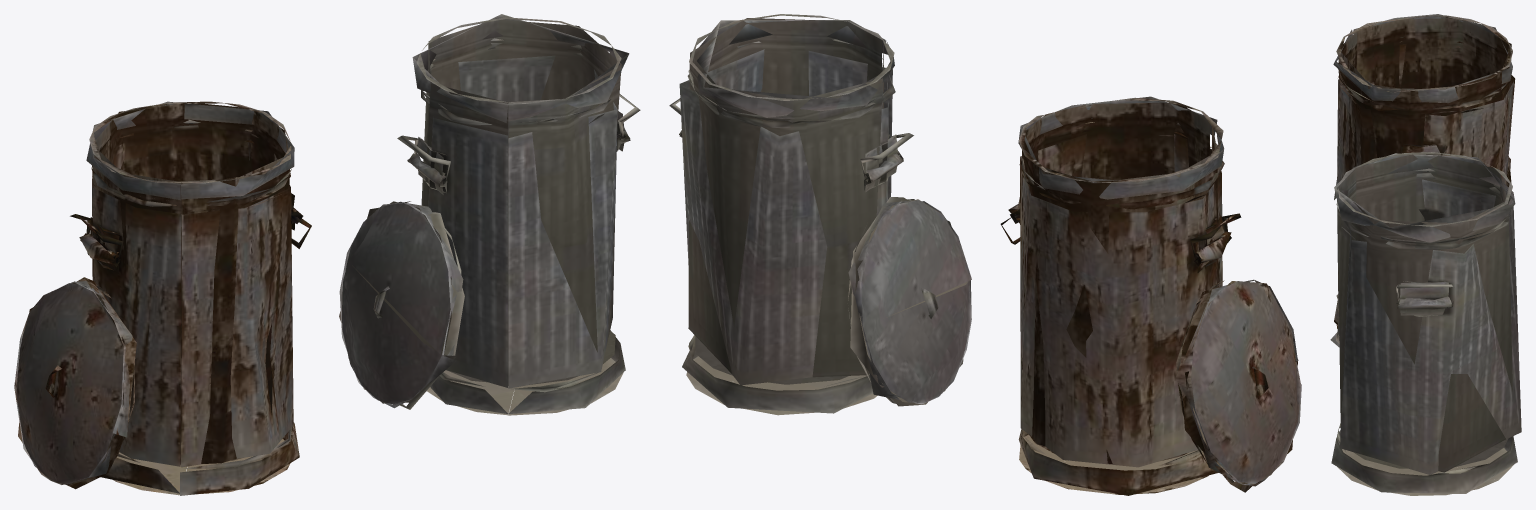
The model's file is metal_trash_can.glb.
3 views of the same model, side by side, from view 1: azimuth 30°, elevation 25°; view 2: azimuth 150°, elevation 25°; view 3: azimuth 270°, elevation 25° (orthographic). The views are drawn at different scales.
Visible parts, largest first — view 1: metal_trash_can_rust, metal_trash_can, metal_trash_can_lid, metal_trash_can_rust_lid; view 2: metal_trash_can, metal_trash_can_rust, metal_trash_can_lid, metal_trash_can_rust_lid; view 3: metal_trash_can, metal_trash_can_rust, metal_trash_can_handle_right.
Boxes of the visible parts, left/top/right/bottom form: metal_trash_can_rust: left=79, top=101, right=303, bottom=495; metal_trash_can: left=407, top=14, right=630, bottom=415; metal_trash_can_lid: left=339, top=201, right=464, bottom=409; metal_trash_can_rust_lid: left=14, top=277, right=136, bottom=489; metal_trash_can: left=679, top=14, right=903, bottom=415; metal_trash_can_rust: left=1008, top=96, right=1231, bottom=495; metal_trash_can_lid: left=848, top=197, right=971, bottom=406; metal_trash_can_rust_lid: left=1176, top=279, right=1301, bottom=492; metal_trash_can: left=1331, top=152, right=1521, bottom=495; metal_trash_can_rust: left=1333, top=14, right=1515, bottom=328; metal_trash_can_handle_right: left=1396, top=284, right=1453, bottom=304.
Bounding box in the file's own units: 1.77 × 0.9076 × 0.5848.
3 materials, 3 textured.
